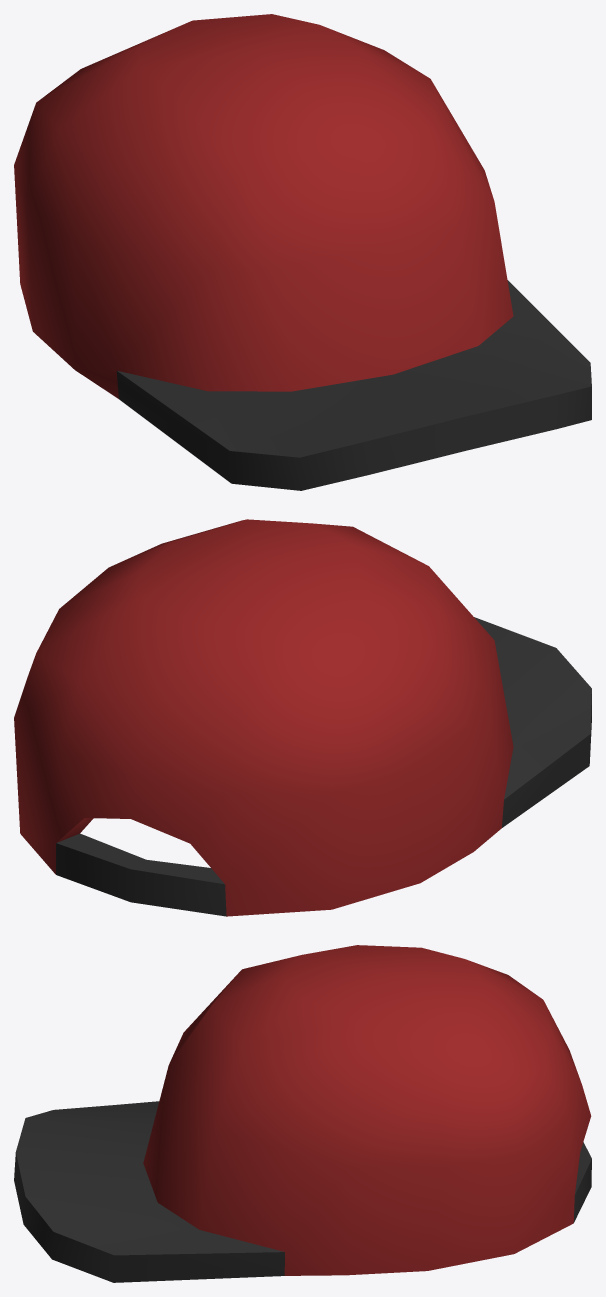
Rendered from hat_01.fbx.
The picture shows the model from 3 angles, top to bottom: view 1: azimuth 30°, elevation 25°; view 2: azimuth 150°, elevation 25°; view 3: azimuth 270°, elevation 25°; orthographic projection. The views are drawn at different scales.
Parts seen in each view (by area): view 1: hat_01; view 2: hat_01; view 3: hat_01.
Boxes of the visible parts, left/top/right/bottom form: hat_01: left=14, top=14, right=591, bottom=490; hat_01: left=14, top=519, right=591, bottom=916; hat_01: left=14, top=945, right=591, bottom=1282.
Bounding box in the file's own units: 54.95 × 36.38 × 80.73.
